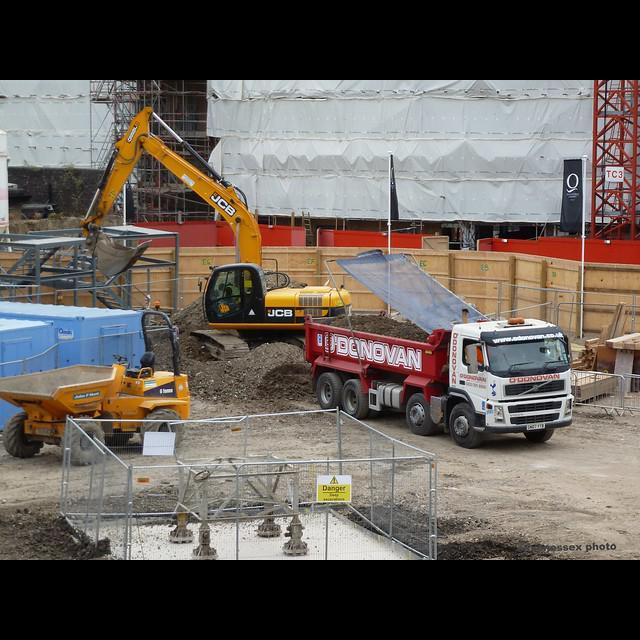Excavator: (78, 106, 354, 362)
NO-Hardhat: (217, 283, 224, 290)
Person: (217, 282, 242, 309)
Safety Vest: (226, 285, 242, 302)
dump truck: (305, 251, 574, 451)
wheel loader: (0, 310, 189, 466)
